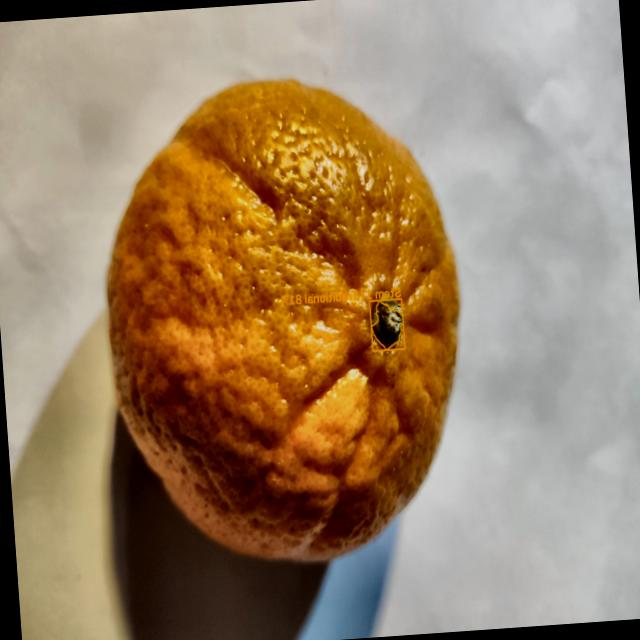Fruit-Stem-Detection: (353, 235, 424, 374)
